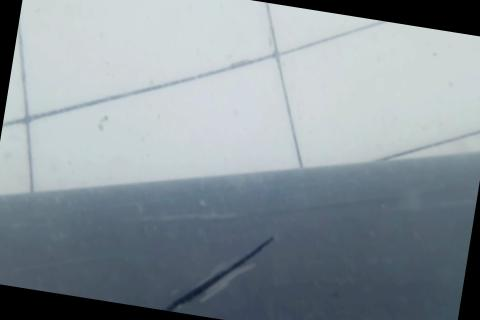keretakan: (140, 215, 275, 320)
